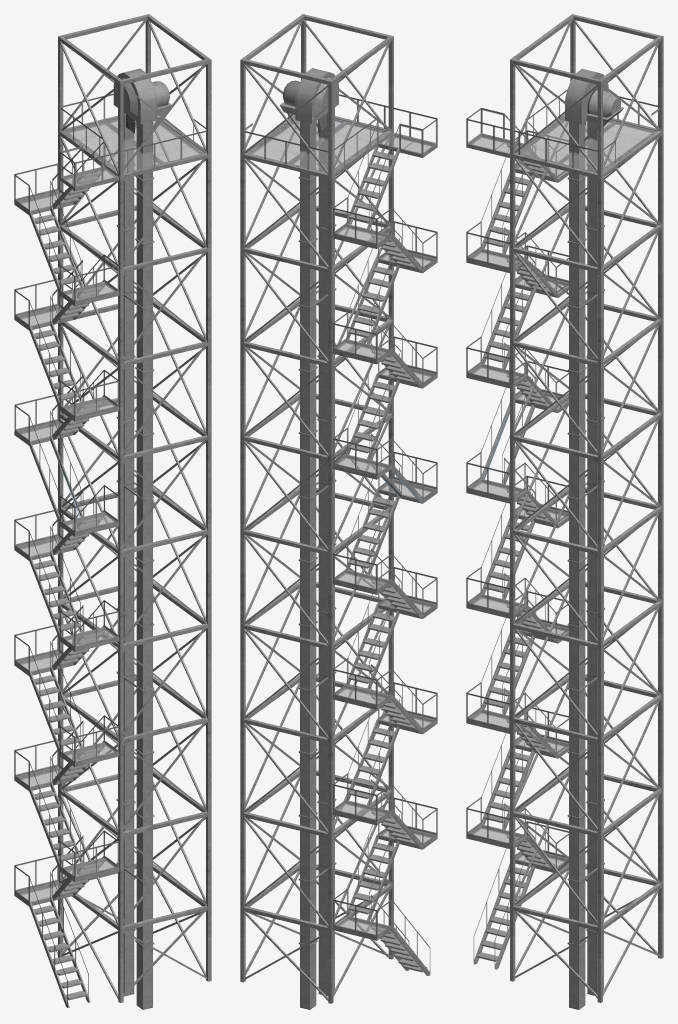
File: plant-metall1.glb
The picture shows the model from 3 angles, left to right: view 1: azimuth 30°, elevation 25°; view 2: azimuth 150°, elevation 25°; view 3: azimuth 330°, elevation 25°; orthographic projection.
Parts seen in each view (by area): view 1: Object8934417; view 2: Object8934417; view 3: Object8934417.
Part boxes in pixels (left/top/right/bottom): Object8934417: left=14, top=14, right=211, bottom=1009; Object8934417: left=240, top=14, right=437, bottom=1009; Object8934417: left=466, top=14, right=663, bottom=1009.
Size of the model in its own units: 5.61 by 37.63 by 4.48.
Materials: 1 (1 with a texture image).
